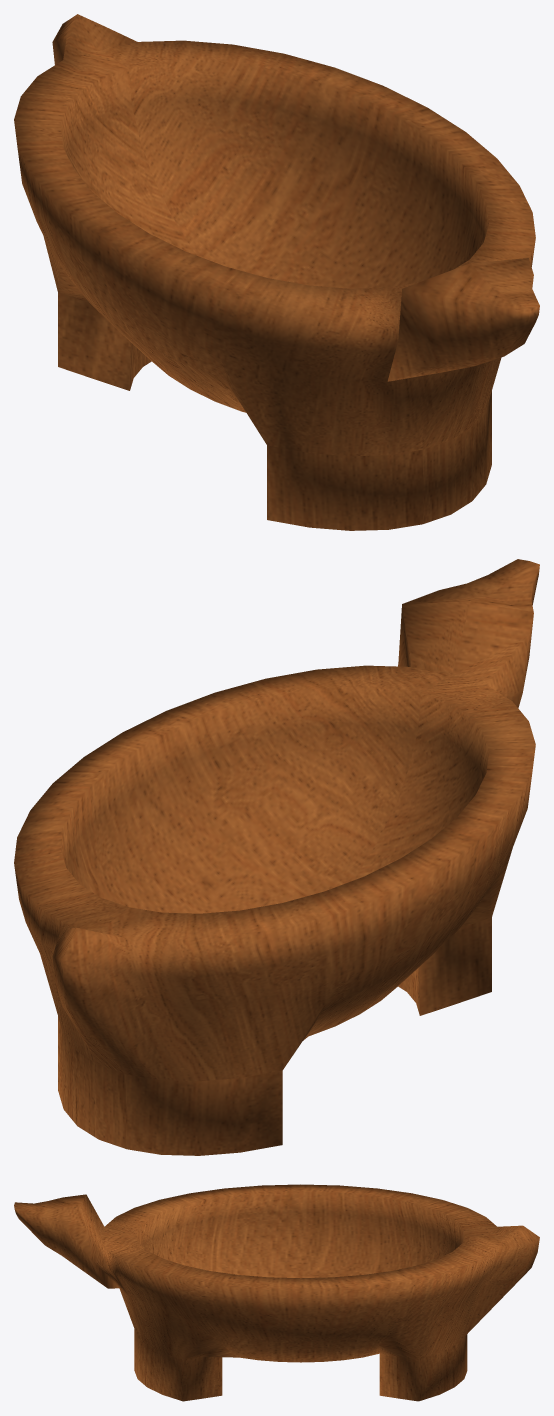
File: Duyo.glb
3 renders of one model, top to bottom at view 1: azimuth 30°, elevation 25°; view 2: azimuth 150°, elevation 25°; view 3: azimuth 270°, elevation 25°, orthographic. The views are drawn at different scales.
Visible parts, largest first — view 1: Duyo low; view 2: Duyo low; view 3: Duyo low.
Boxes of the visible parts, left/top/right/bottom form: Duyo low: left=14, top=14, right=539, bottom=530; Duyo low: left=14, top=559, right=539, bottom=1155; Duyo low: left=14, top=1184, right=539, bottom=1401.
Bounding box in the file's own units: 1.44 × 1.09 × 3.05.
1 material, 1 textured.
